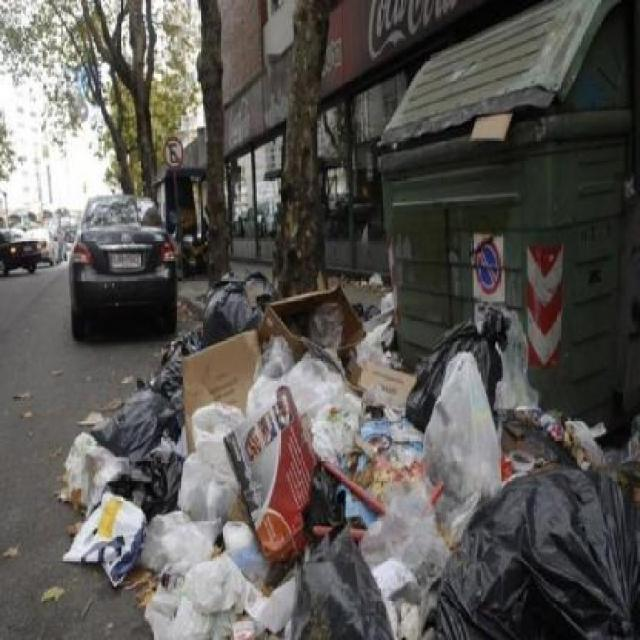garbage: (96, 309, 392, 620), (356, 371, 602, 607)
